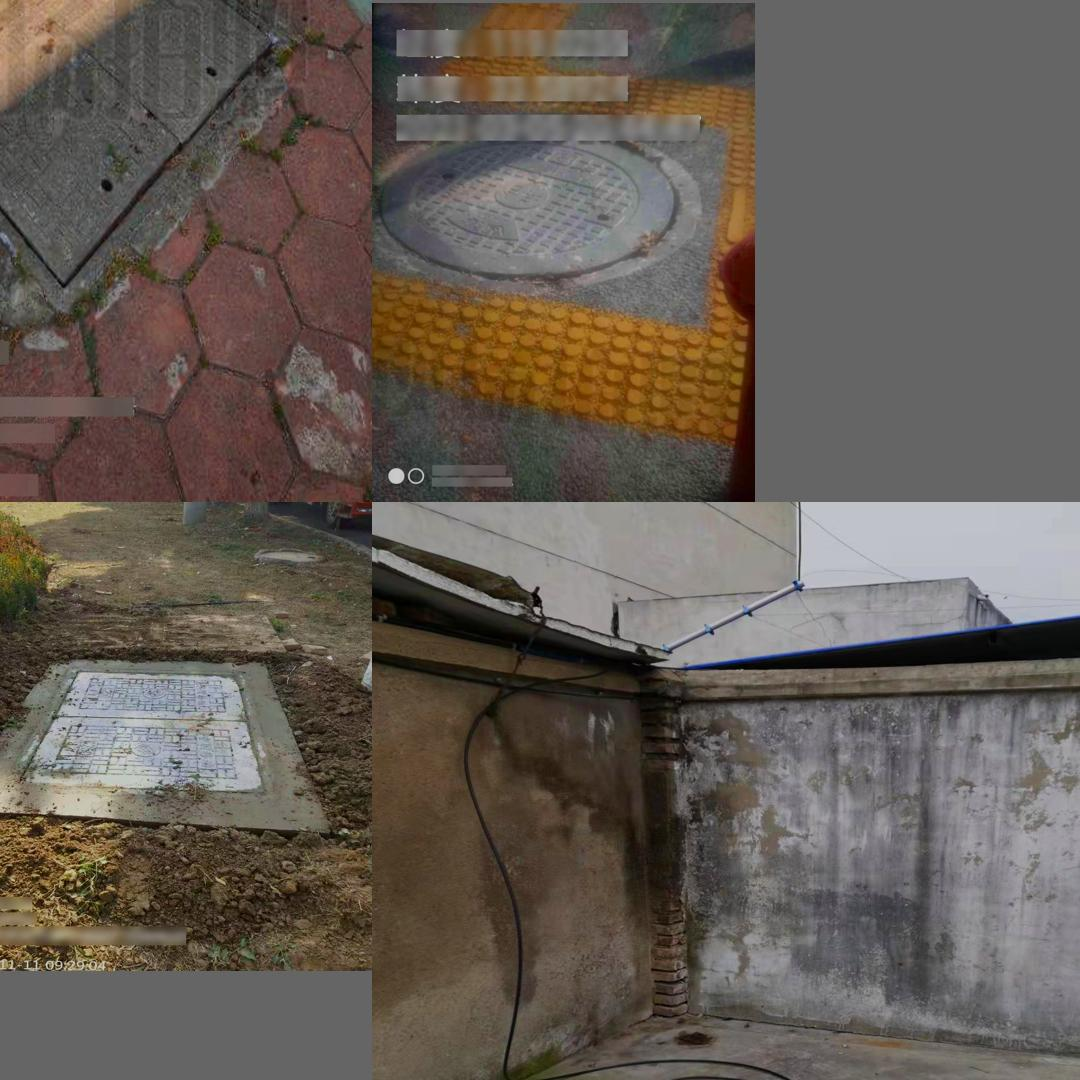good: (0, 0, 292, 318), (387, 99, 700, 292), (0, 650, 324, 814)
